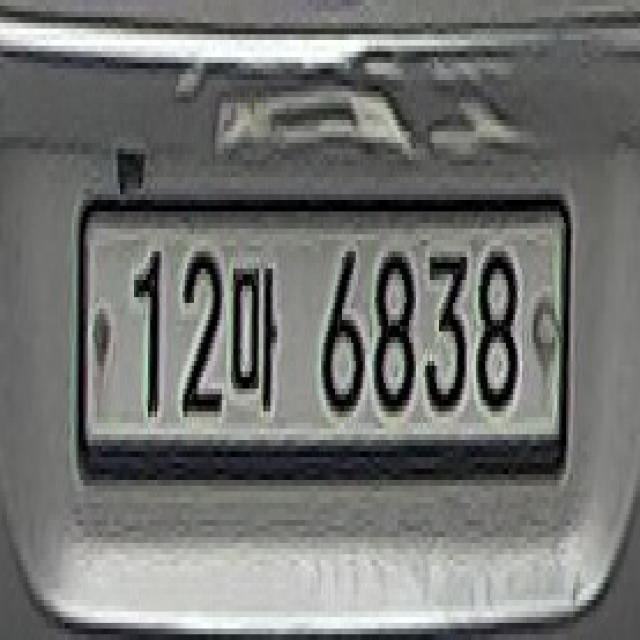1: (132, 250, 168, 413)
2: (178, 236, 222, 427)
3: (423, 237, 472, 410)
6: (321, 235, 367, 427)
8: (476, 233, 526, 425), (372, 229, 417, 423)
license_plate: (72, 173, 572, 489)
ma: (230, 254, 286, 419)
